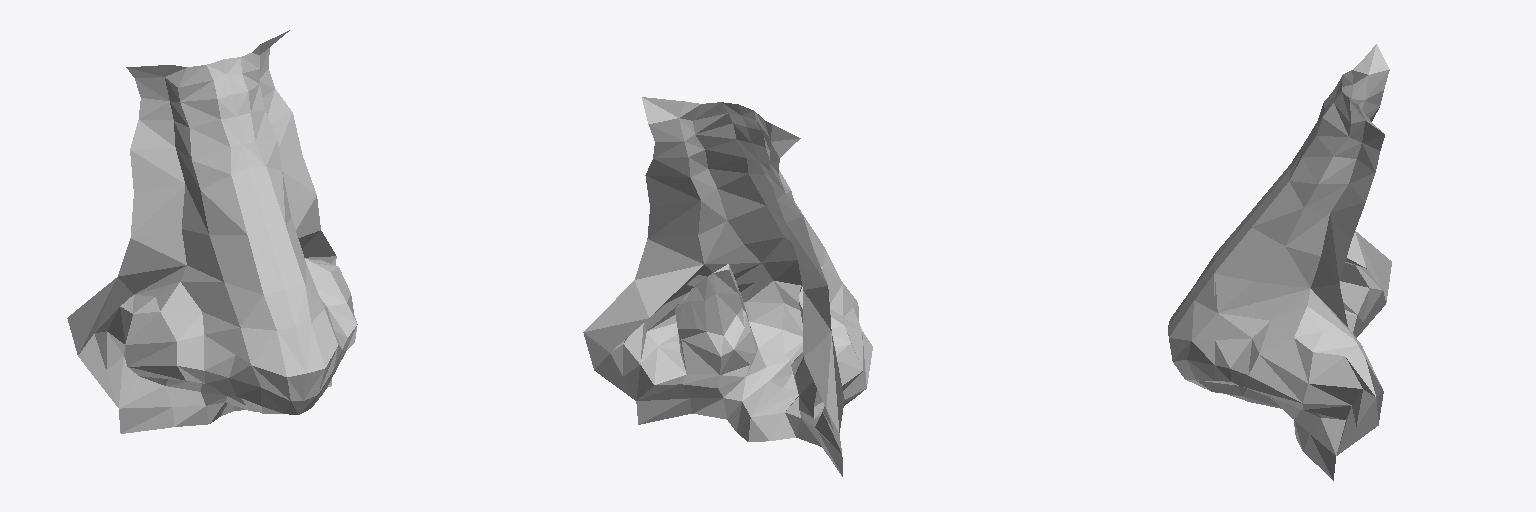
Rendered from nose_new.obj.
The picture shows the model from 3 angles: view 1: azimuth 30°, elevation 25°; view 2: azimuth 150°, elevation 25°; view 3: azimuth 270°, elevation 25°; orthographic projection.
Visible parts, largest first — view 1: object_1; view 2: object_1; view 3: object_1.
Boxes of the visible parts, box(x1,y1,x2,y2) form: object_1: box(67, 30, 357, 433); object_1: box(583, 97, 872, 476); object_1: box(1168, 44, 1391, 480).
Bounding box in the file's own units: 19.86 × 24.94 × 14.54.